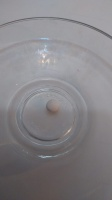Yuvarlak Buskopan: (46, 99, 60, 114)
